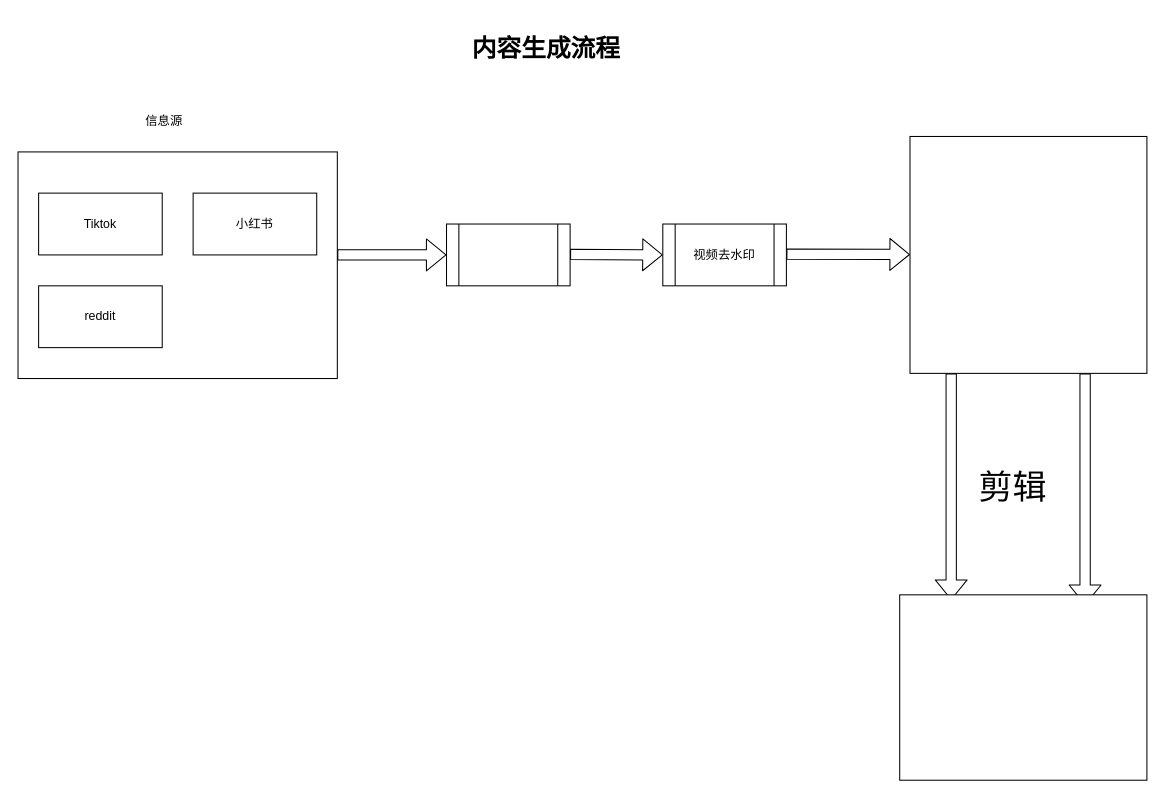
Some shapes in this 1165 by 798 pixel diagram are drawn without their labels. Each missing label, with the centre of its shape:
素材库: (x=1028, y=254)
视频地址拾取: (x=507, y=254)
